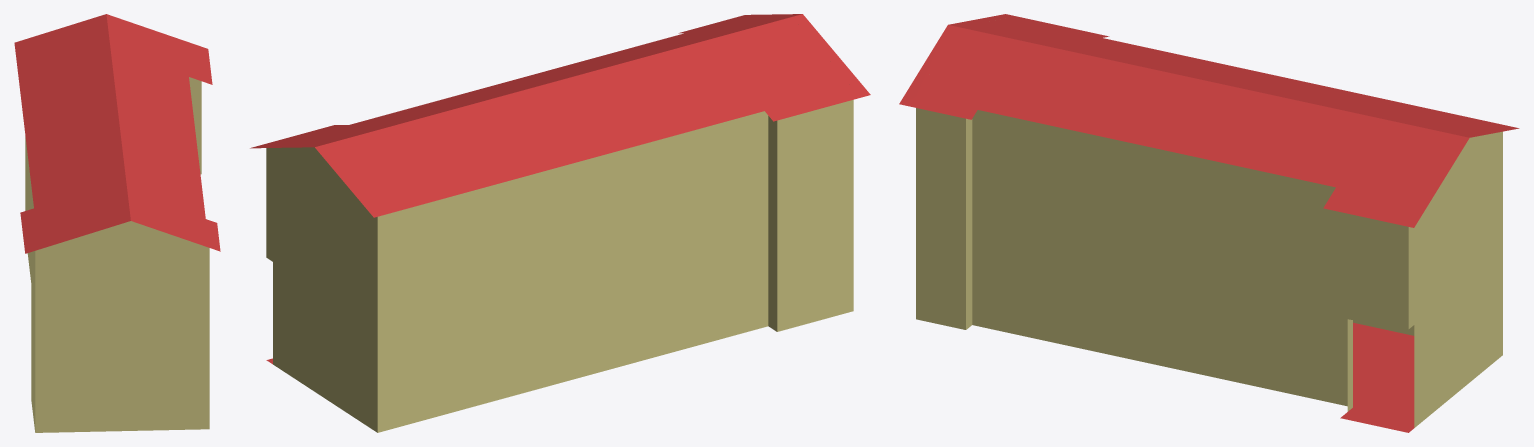
3 views of the same model, side by side, from view 1: azimuth 30°, elevation 25°; view 2: azimuth 150°, elevation 25°; view 3: azimuth 270°, elevation 25° (orthographic). The views are drawn at different scales.
Visible parts, largest first — view 1: group_5, group_3, group_4; view 2: group_5, group_3, group_4; view 3: group_5, group_3, group_6, group_4.
Part boxes in pixels (left/top/right/bottom): group_5: left=25, top=77, right=209, bottom=432; group_3: left=14, top=14, right=220, bottom=251; group_4: left=20, top=14, right=220, bottom=253; group_5: left=266, top=100, right=853, bottom=432; group_3: left=250, top=14, right=853, bottom=217; group_4: left=315, top=14, right=870, bottom=146; group_5: left=916, top=108, right=1502, bottom=427; group_3: left=900, top=17, right=1519, bottom=227; group_6: left=1340, top=322, right=1414, bottom=432; group_4: left=899, top=14, right=1469, bottom=187.
Bounding box in the file's own units: 29.1 × 36.99 × 16.86.
